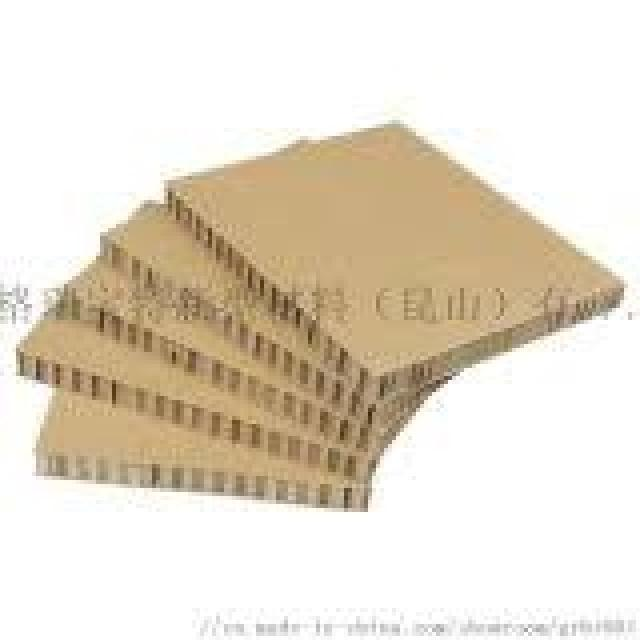Cardboard: (15, 120, 624, 514)
